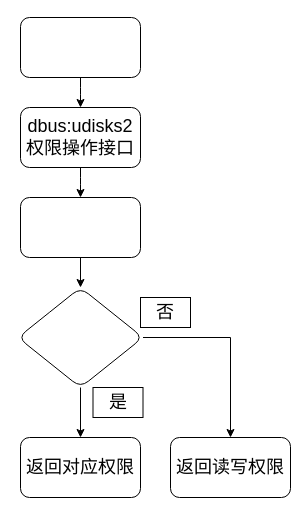
Image size: 308x515. Some labels were removed from this diagram. The centre of each missing label's shape, as x and y in pixels:
"key是否存在" belongs at (80,337).
"上层软件调用" belongs at (80,47).
"通过key查找hash表" belongs at (80,227).
